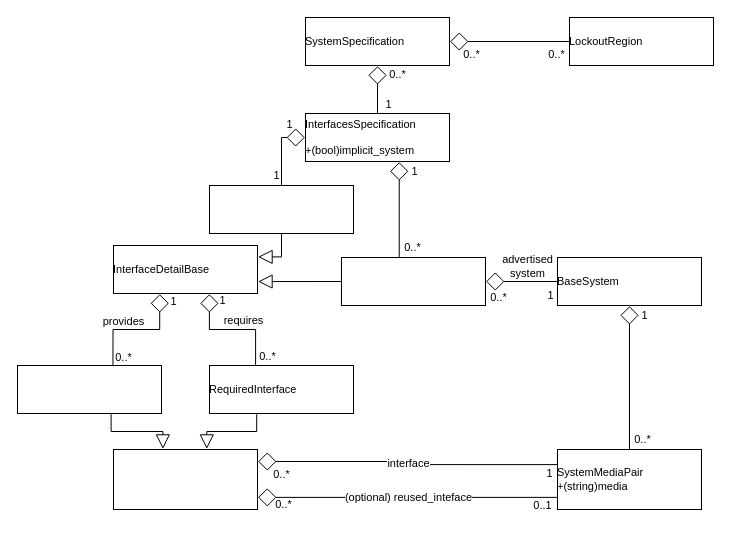
The diagram is 731 pixels wide and 533 high, and some of its shapes have lost their labels. The shapes that lost their labels are listed below. From the top down, each one's centre as x and y in pixels, then its label:
At point 281,209: "CommonInterfaceDetail".
At point 413,281: "SystemInterfaceDetail".
At point 89,389: "ProvidedInterface".
At point 185,479: "BasesSpecificationInterface +(int)cardinality + regional_lockout_override".
